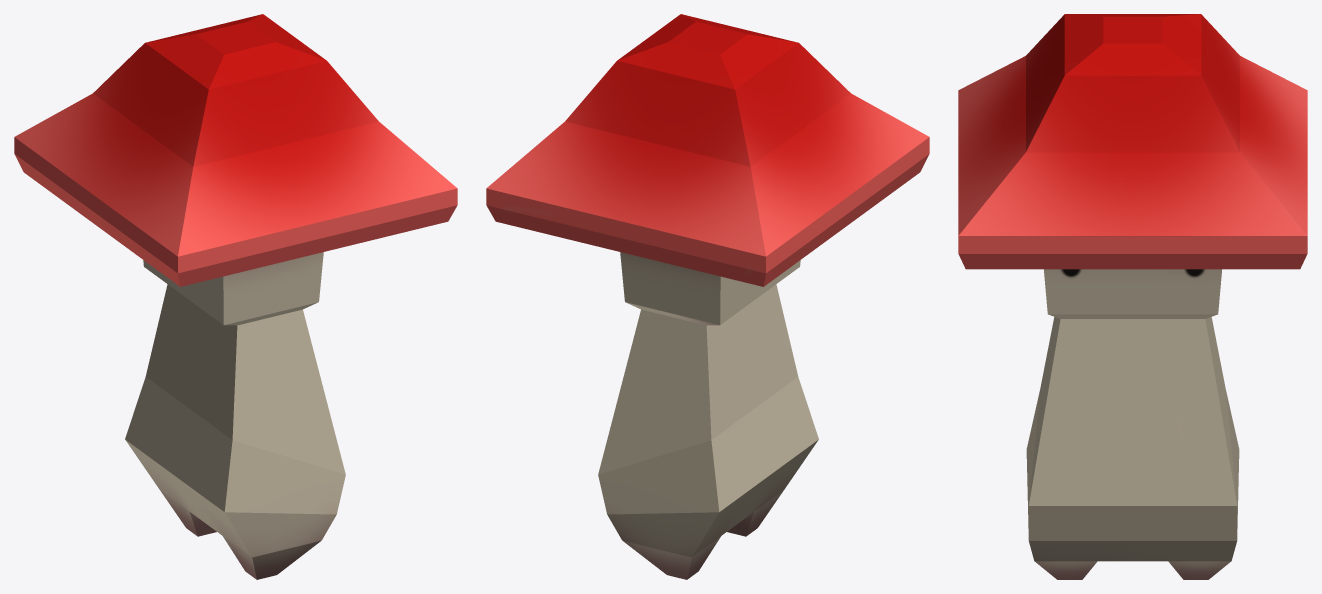
The model's file is baby mush.fbx.
3 renders of one model, left to right at view 1: azimuth 30°, elevation 25°; view 2: azimuth 150°, elevation 25°; view 3: azimuth 270°, elevation 25°, orthographic. The views are drawn at different scales.
Visible parts, largest first — view 1: Cube; view 2: Cube; view 3: Cube.
Boxes of the visible parts, box(x1,y1,x2,y2) form: Cube: box(14, 14, 457, 579); Cube: box(486, 14, 929, 579); Cube: box(958, 14, 1307, 579).
Bounding box in the file's own units: 574 × 1005 × 581.
1 material, 1 textured.
